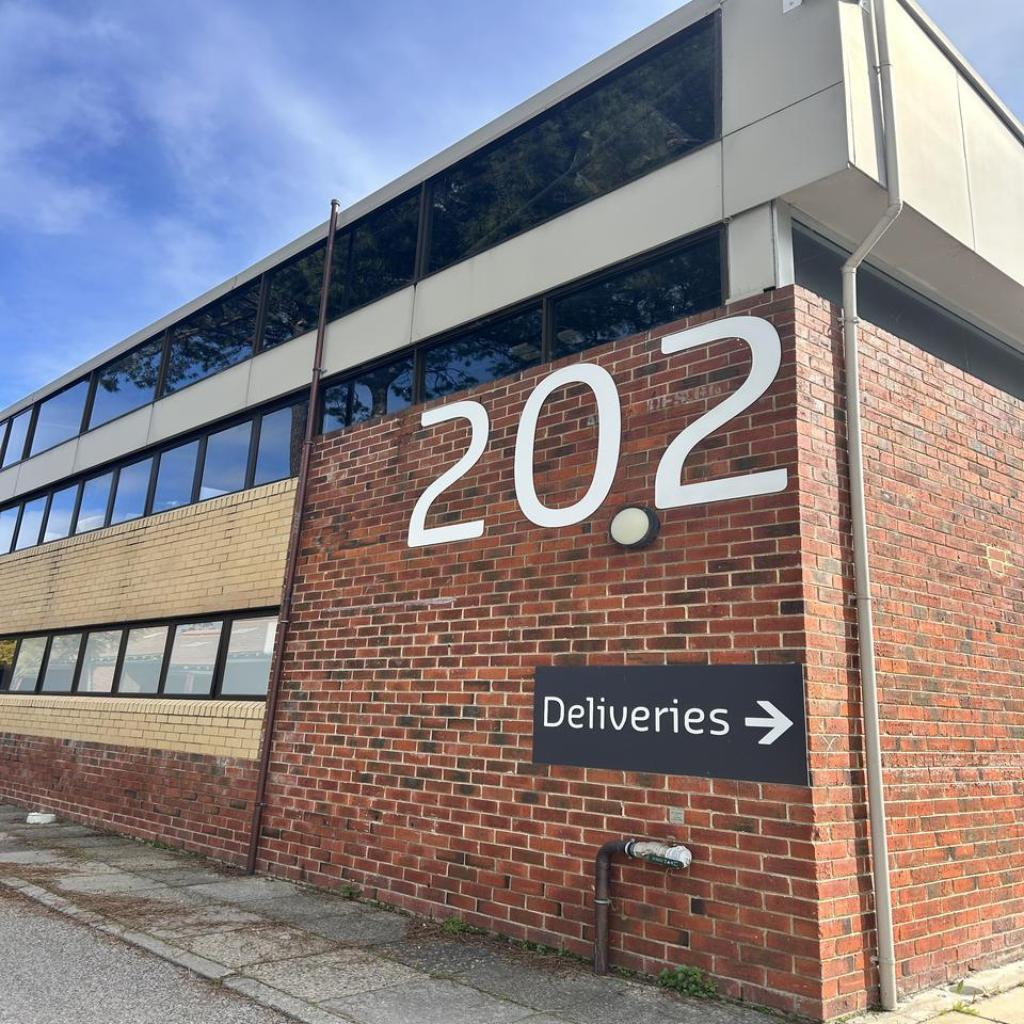BuildingCodes: (402, 312, 792, 554)
